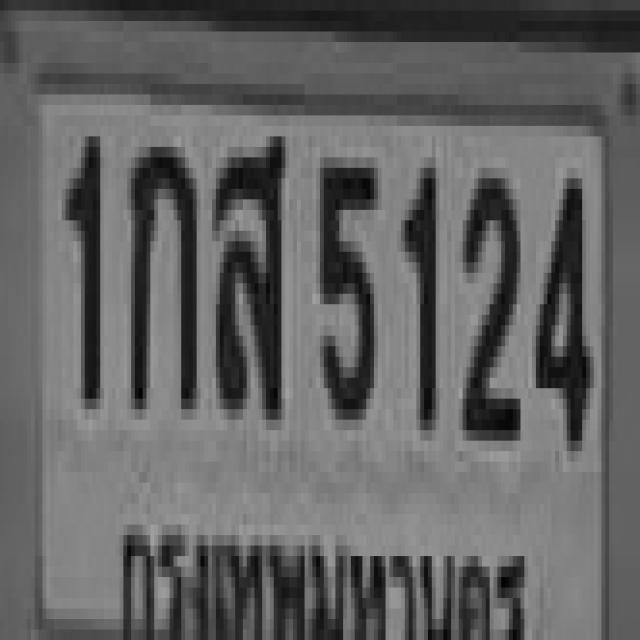1: (62, 126, 96, 399), (401, 157, 432, 420)
10GorGai: (127, 136, 193, 399)
2: (458, 168, 516, 430)
4: (532, 168, 586, 441)
49SorSuea: (212, 126, 281, 409)
5: (316, 147, 374, 409)
Bangkok: (113, 502, 537, 640)
